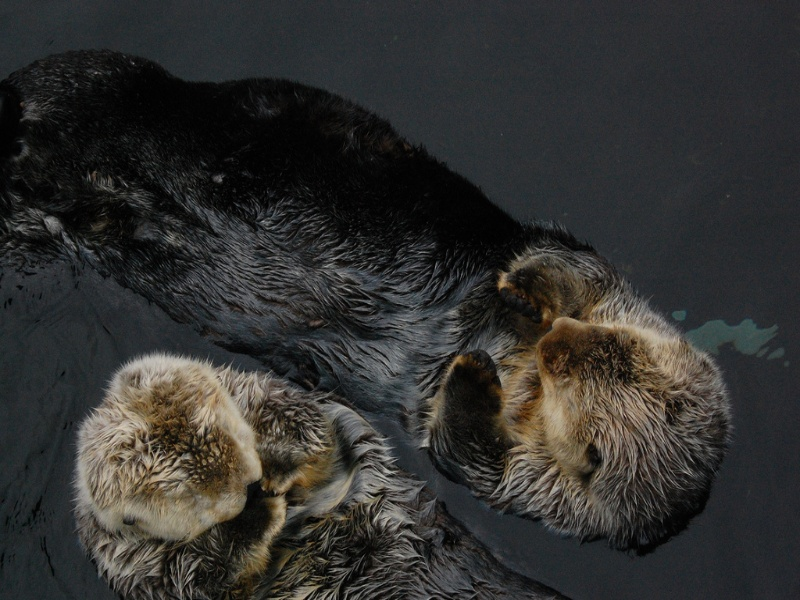minkish: (8, 44, 744, 554), (53, 347, 432, 600)
